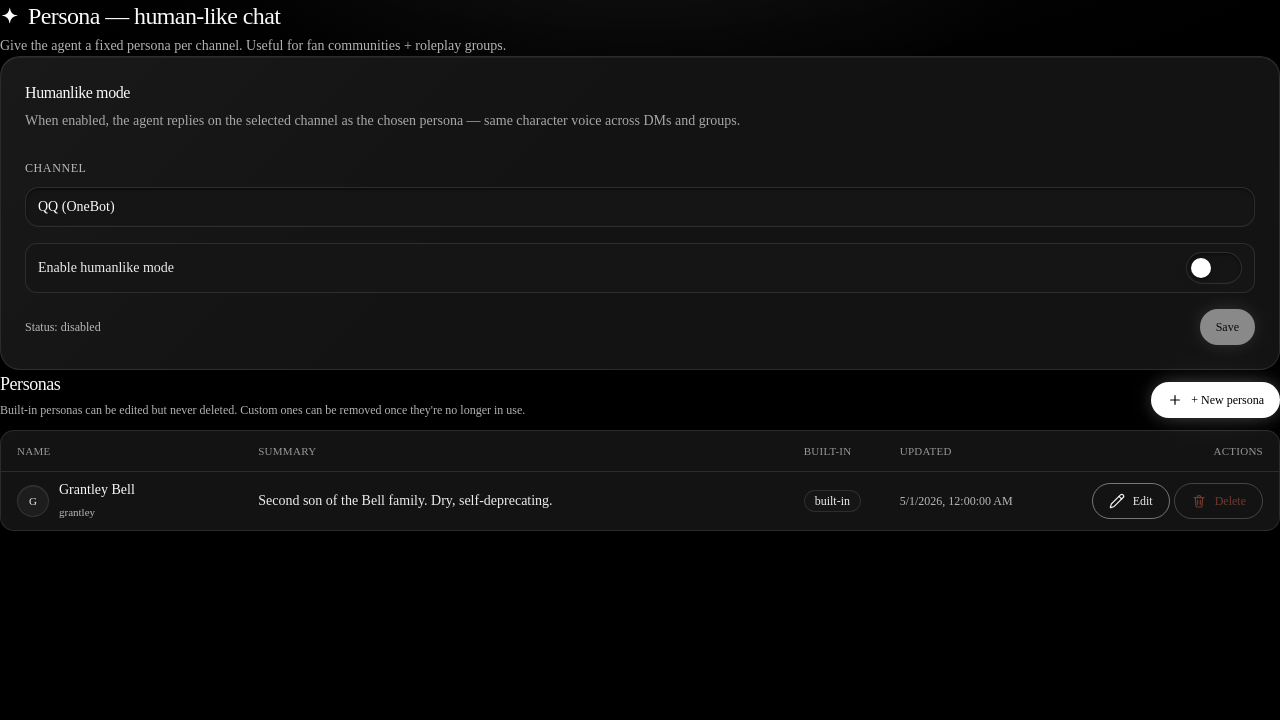
it: PersonaPage — editor modal › opens the create editor with empty fields when clicking '+ New persona'
Expected: the row with test id "persona-row-grantley" is shown, [1,471,1279,530]
Click the button with test id "persona-new". click: click(1216, 400)
box: [1151,382,1279,418]
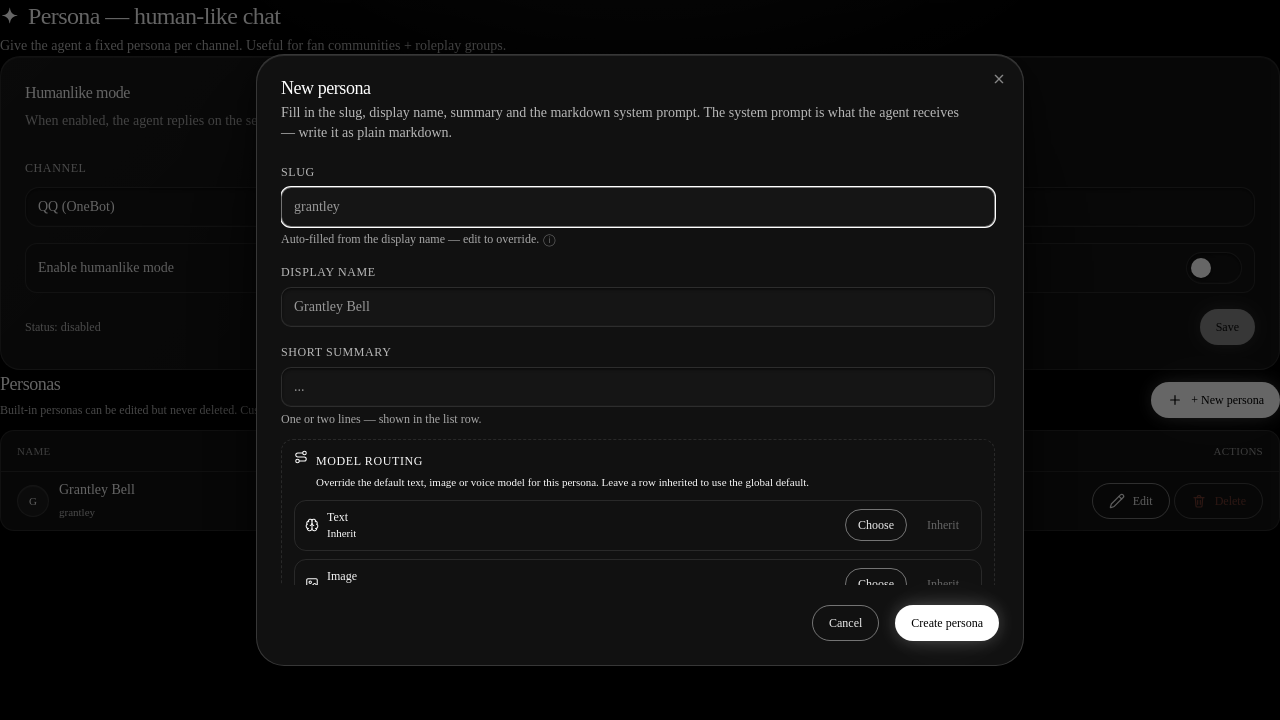
Result: the dialog with test id "persona-editor" is shown at [256,54,1024,666]
Result: the field with test id "persona-id-input" is empty at [281,187,995,227]
Result: the field with test id "persona-id-input" is enabled at [281,187,995,227]
